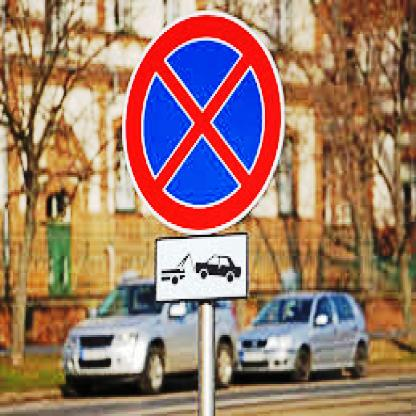No stopping: (119, 11, 287, 235)
